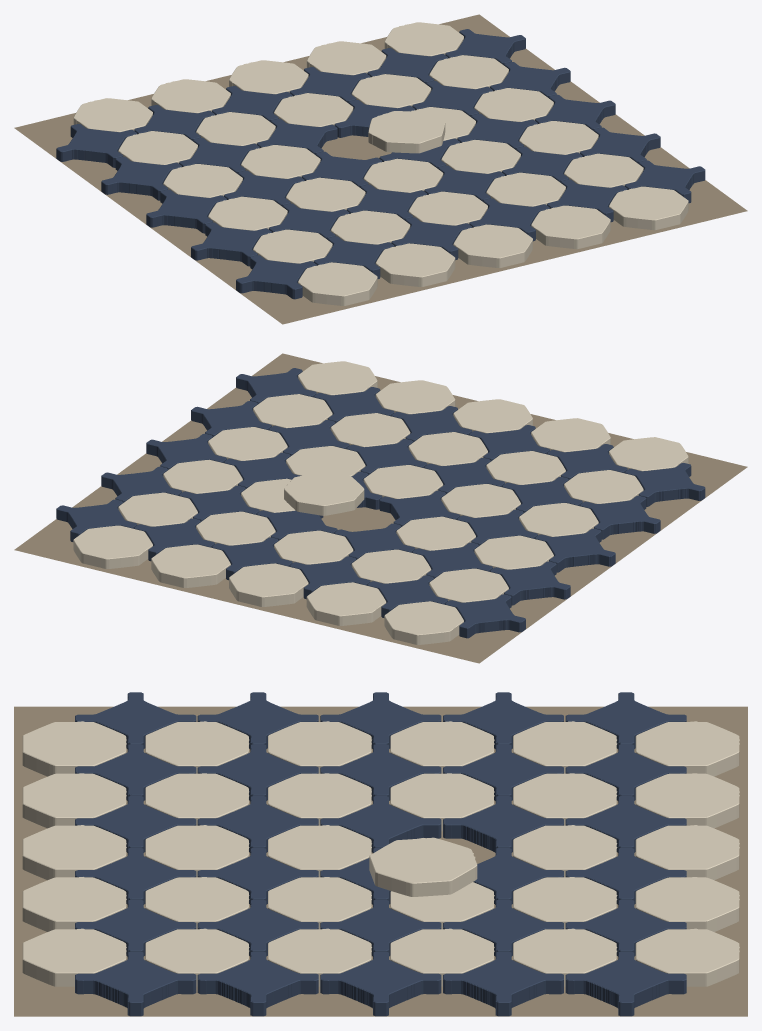
The model's file is terilgan.glb.
3 views of the same model, one above another, from view 1: azimuth 30°, elevation 25°; view 2: azimuth 150°, elevation 25°; view 3: azimuth 270°, elevation 25° (orthographic). The views are drawn at different scales.
Parts seen in each view (by area): view 1: qum, t.033, t.005, t.016, t.049, t.027, t.038, t.048, t.037, t.059, t.015, t.026 (+49 smaller); view 2: qum, t.033, t.059, t.015, t.026, t.037, t.048, t.038, t.049, t.005, t.027, t.016 (+48 smaller); view 3: qum, t.033, t.059, t.049, t.026, t.016, t.038, t.027, t.037, t.015, t.048, t.005 (+49 smaller).
Part boxes in pixels (x1,y1,x2,y2): qum: (14, 14, 747, 324); t.033: (368, 111, 445, 153); t.005: (298, 262, 377, 305); t.016: (375, 243, 455, 286); t.049: (609, 186, 688, 230); t.027: (453, 224, 532, 267); t.038: (531, 205, 610, 249); t.048: (306, 41, 386, 75); t.037: (229, 60, 308, 94); t.059: (384, 22, 463, 56); t.015: (73, 98, 152, 132); t.026: (151, 79, 230, 113); qum: (14, 353, 747, 663); t.033: (284, 472, 364, 515); t.059: (73, 525, 152, 568); t.015: (384, 601, 463, 644); t.026: (306, 582, 386, 625); t.037: (229, 563, 308, 606); t.048: (151, 544, 230, 587); t.038: (375, 380, 455, 414); t.049: (298, 361, 377, 395); t.005: (609, 437, 688, 471); t.027: (453, 399, 532, 433); t.016: (531, 418, 610, 452); qum: (14, 706, 747, 1016); t.033: (369, 837, 477, 896); t.059: (635, 928, 739, 986); t.049: (22, 928, 126, 986); t.026: (635, 773, 739, 828); t.016: (22, 773, 126, 828); t.038: (22, 877, 126, 931); t.027: (22, 825, 126, 880); t.037: (635, 825, 739, 880); t.015: (635, 721, 739, 776); t.048: (635, 877, 739, 931); t.005: (22, 721, 126, 776).
Bounding box in the file's own units: 1.66 × 0.072 × 1.66.
